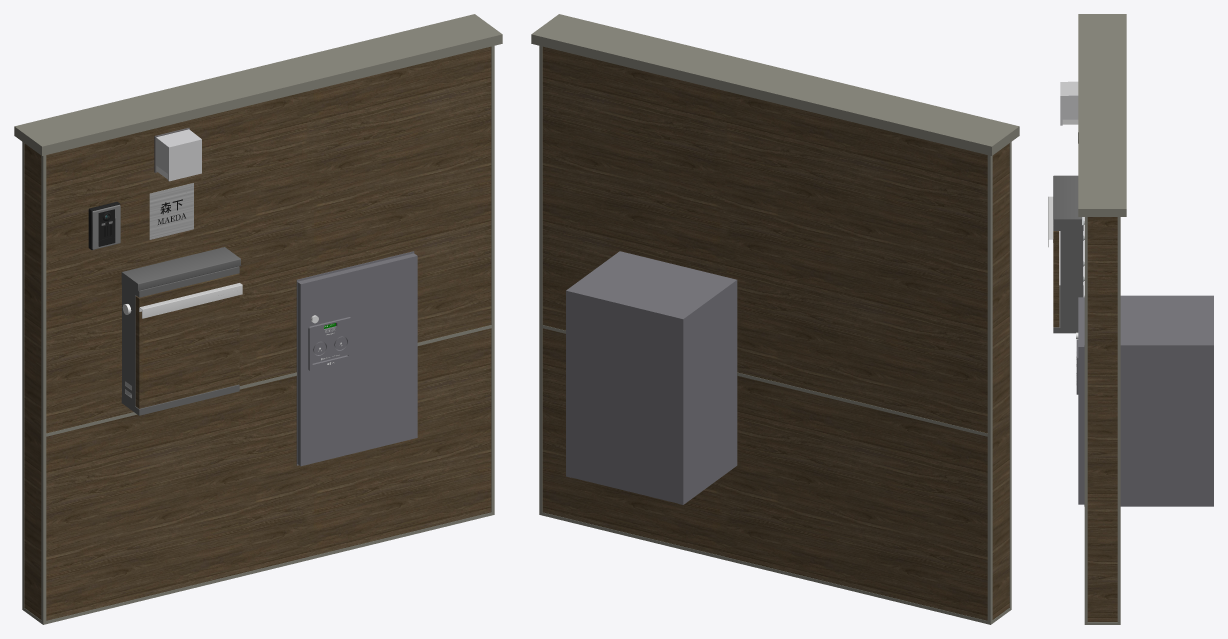
File: t-boxmonchu-wide_brownebony.fbx
3 views of the same model, side by side, from view 1: azimuth 30°, elevation 25°; view 2: azimuth 150°, elevation 25°; view 3: azimuth 270°, elevation 25° (orthographic). The views are drawn at different scales.
Visible parts, largest first — view 1: t-boxmonchu-wide_brownebony; view 2: t-boxmonchu-wide_brownebony; view 3: t-boxmonchu-wide_brownebony.
Boxes of the visible parts, x1,y1,x2,y2 form: t-boxmonchu-wide_brownebony: (14, 14, 502, 624); t-boxmonchu-wide_brownebony: (531, 14, 1019, 624); t-boxmonchu-wide_brownebony: (1048, 14, 1213, 624).
Bounding box in the file's own units: 153 × 153 × 55.06.
21 materials, 7 textured.
